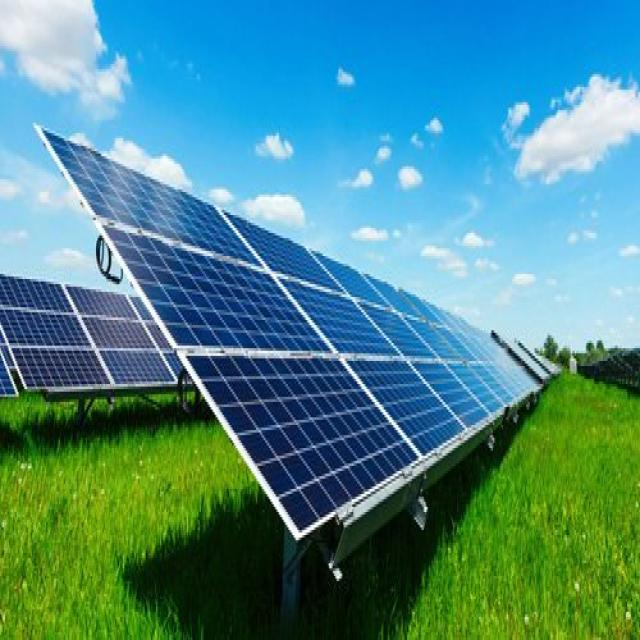clean-solar-panel: (41, 130, 538, 536)
